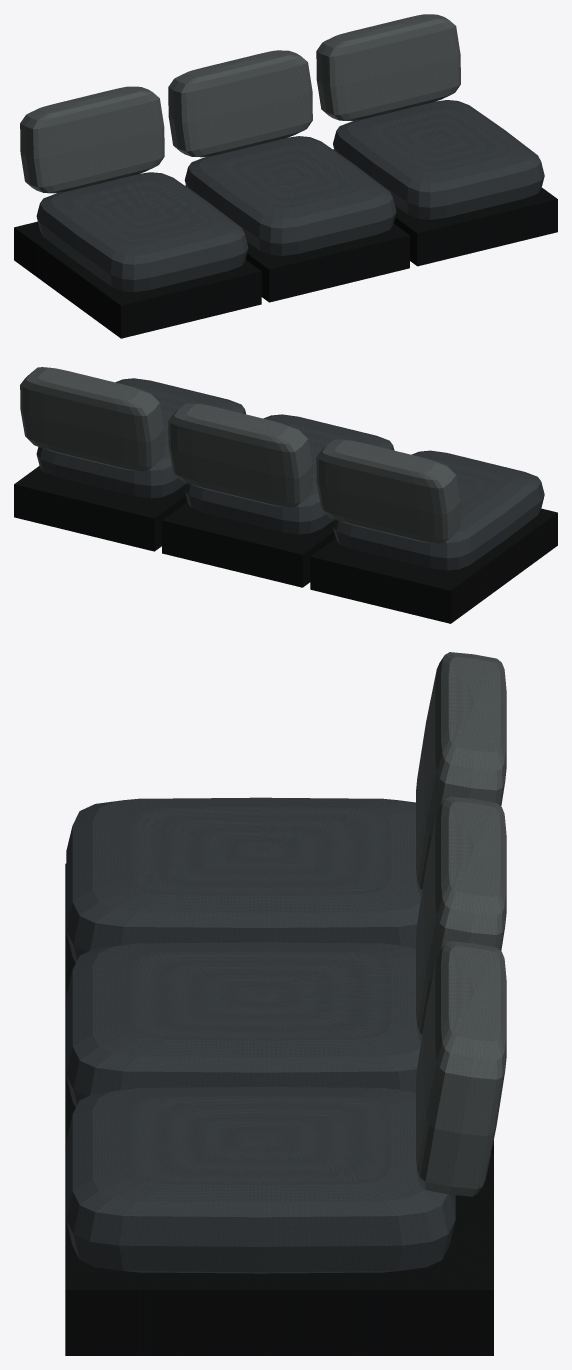
File: sofa-modular_lod2.glb
3 views of the same model, one above another, from view 1: azimuth 30°, elevation 25°; view 2: azimuth 150°, elevation 25°; view 3: azimuth 270°, elevation 25° (orthographic). The views are drawn at different scales.
Parts seen in each view (by area): view 1: seat_1, seat_3, seat_2, back_1, back_2, back_3, base_1, base_2, base_3; view 2: base_1, back_1, back_3, back_2, seat_1, base_2, base_3, seat_3, seat_2; view 3: seat_3, seat_1, seat_2, base_3, back_3, back_2, back_1.
Part boxes in pixels (x1=…): seat_1: x1=36, y1=172, x2=248, y2=292; seat_3: x1=333, y1=100, x2=544, y2=219; seat_2: x1=184, y1=136, x2=396, y2=255; back_1: x1=20, y1=86, x2=164, y2=193; back_2: x1=168, y1=50, x2=312, y2=157; back_3: x1=316, y1=14, x2=460, y2=120; base_1: x1=14, y1=221, x2=261, y2=338; base_2: x1=185, y1=185, x2=409, y2=302; base_3: x1=333, y1=149, x2=557, y2=266; base_1: x1=310, y1=508, x2=557, y2=623; back_1: x1=316, y1=439, x2=460, y2=543; back_3: x1=20, y1=367, x2=164, y2=471; back_2: x1=168, y1=403, x2=312, y2=507; seat_1: x1=333, y1=450, x2=544, y2=570; base_2: x1=162, y1=502, x2=335, y2=587; base_3: x1=14, y1=466, x2=187, y2=551; seat_3: x1=36, y1=378, x2=245, y2=498; seat_2: x1=184, y1=414, x2=394, y2=534; seat_3: x1=66, y1=1087, x2=455, y2=1273; seat_1: x1=66, y1=797, x2=421, y2=962; seat_2: x1=66, y1=942, x2=420, y2=1107; base_3: x1=65, y1=1153, x2=493, y2=1355; back_3: x1=416, y1=941, x2=506, y2=1196; back_2: x1=416, y1=796, x2=506, y2=1041; back_1: x1=416, y1=652, x2=506, y2=896.
Size of the model in its own units: 2.4 by 0.78 by 1.05.
Materials: 3 (3 with a texture image).
